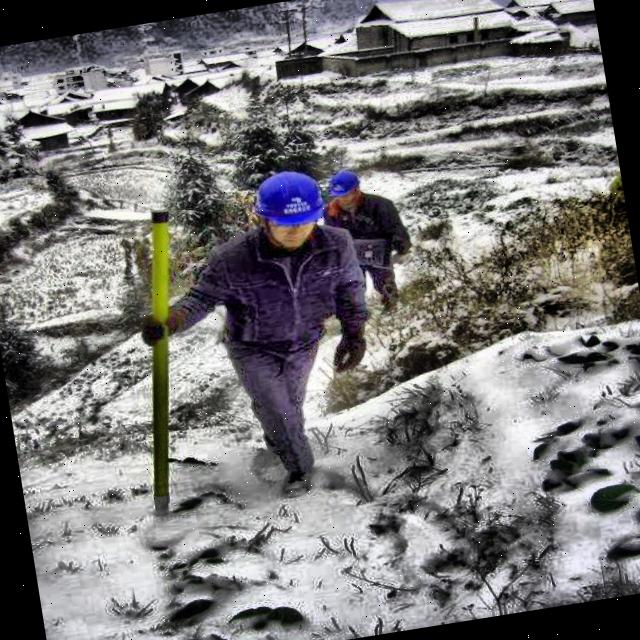helmet: (248, 170, 326, 254), (321, 163, 373, 213)
